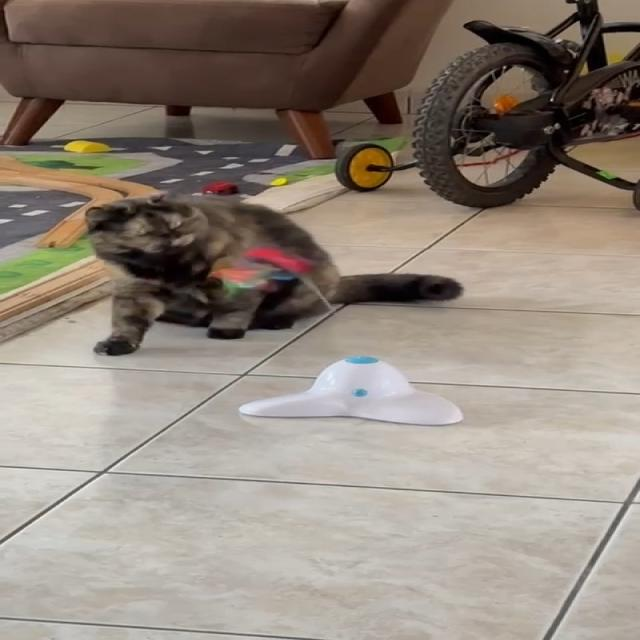authorized: (83, 191, 464, 356)
